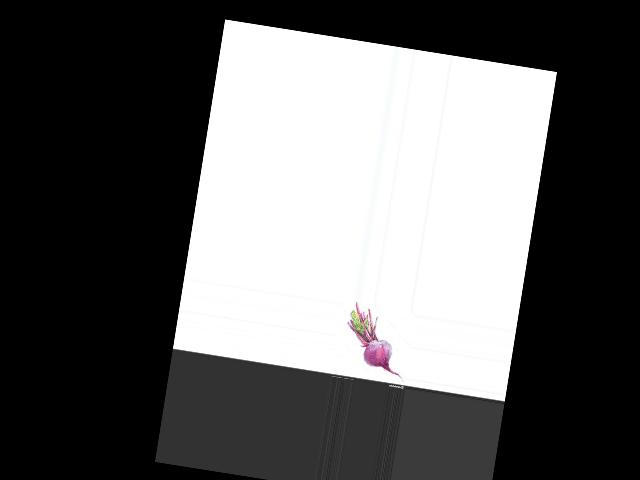beet: (339, 300, 414, 381)
